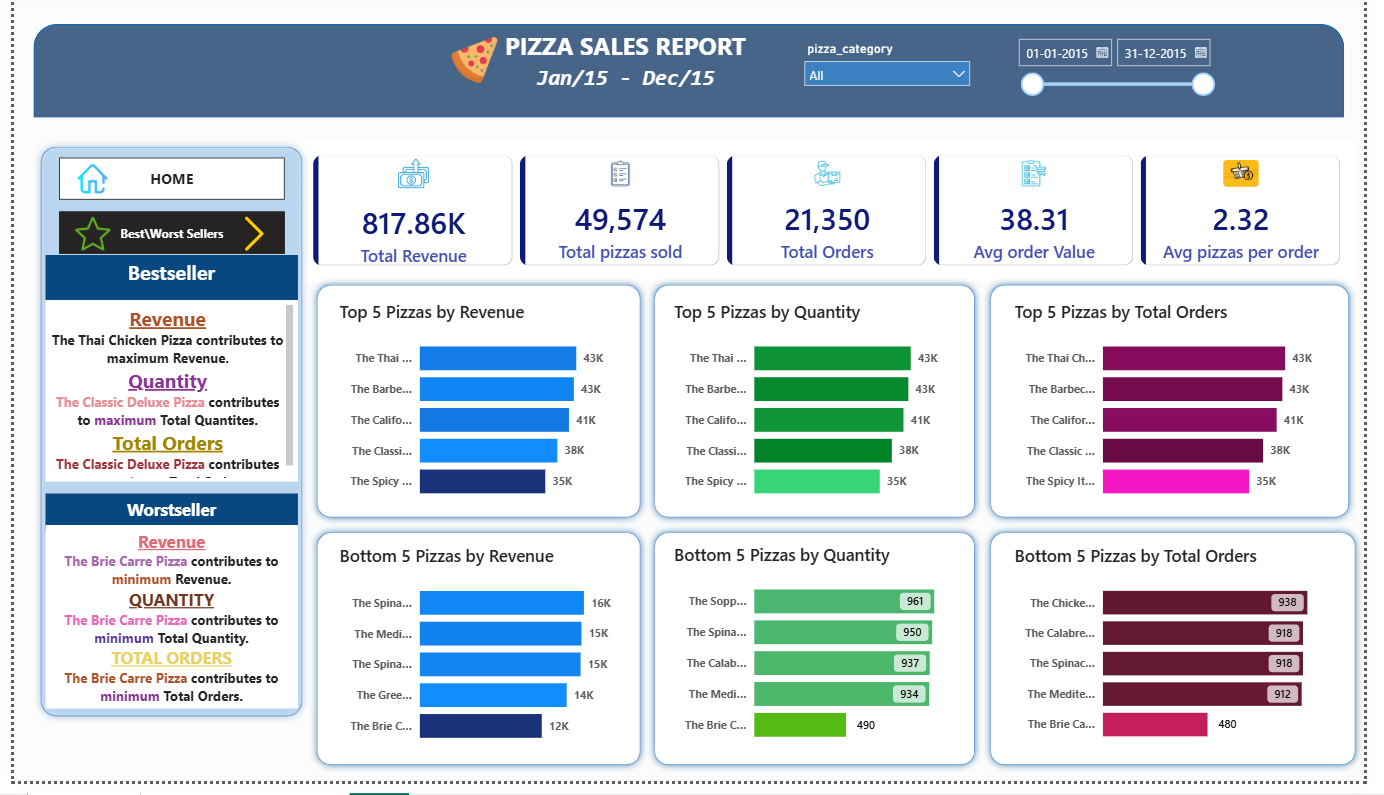

This screenshot's page, from the dashboard's own definition file:
{"tool":"powerbi","page":{"name":"Best\\Worst Sellers","canvas":[1500,875],"ordinal":1},"visuals":[{"type":"cardVisual","fields":{"Data":["pizza_sales.Total Revenue","pizza_sales.Total pizzas sold","pizza_sales.Total Orders","pizza_sales.Avg order Value","pizza_sales.Avg pizzas per order"]},"box":[315.9,161.5,1176.5,157.9],"z":0},{"type":"shape","box":[22.1,33.2,1457.2,104.1],"z":1000},{"type":"textbox","box":[527.1,59.8,268,57.6],"z":2000},{"type":"textbox","box":[527.1,33.2,305.6,64.2],"z":3000},{"type":"textbox","box":[493.9,73.1,372.1,48.7],"z":4000},{"type":"image","box":[478.4,46.5,66.4,53.2],"z":5000},{"type":"shape","box":[328.3,315.9,376.2,275],"z":6000},{"type":"shape","box":[21.3,161.5,307,649.5],"z":7000},{"type":"textbox","box":[35.5,291,280.4,49.7],"z":8000},{"type":"textbox","box":[35.5,340.7,280.4,202.3],"z":9000},{"type":"textbox","box":[35.5,555.4,280.4,40.8],"z":10000},{"type":"textbox","box":[35.5,590.9,280.4,204.1],"z":11000},{"type":"slicer","fields":{"Values":["pizza_sales.pizza_category"]},"box":[869.5,46.1,204.1,74.5],"z":12000},{"type":"slicer","fields":{"Values":["pizza_sales.order_date"]},"box":[1103.7,40.8,239.6,86.9],"z":13000},{"type":"shape","box":[704.5,315.9,372.6,275],"z":14000},{"type":"shape","box":[1077.1,315.9,415.2,275],"z":15000},{"type":"shape","box":[328.3,590.9,376.2,275],"z":16000},{"type":"shape","box":[704.5,590.9,372.6,275],"z":17000},{"type":"shape","box":[1077.1,590.9,422.3,275],"z":18000},{"type":"barChart","title":"Top 5 Pizzas by Revenue","fields":{"Category":["pizza_sales.pizza_name"],"Y":["pizza_sales.Total Revenue"]},"box":[356.7,340.7,323,234.2],"z":19000},{"type":"barChart","title":"Bottom 5 Pizzas by Revenue","fields":{"Category":["pizza_sales.pizza_name"],"Y":["pizza_sales.Total Revenue"]},"box":[356.7,612.2,323,234.2],"z":20000},{"type":"barChart","title":"Bottom 5 Pizzas by Quantity","fields":{"Category":["pizza_sales.pizza_name"],"Y":["pizza_sales.Total pizzas sold"]},"box":[728.6,611.2,323.3,234.7],"z":21000},{"type":"barChart","title":"Bottom 5 Pizzas by Total Orders","fields":{"Category":["pizza_sales.pizza_name"],"Y":["pizza_sales.Total Orders"]},"box":[1107.3,612.2,362,232.5],"z":22000},{"type":"barChart","title":"Top 5 Pizzas by Quantity","fields":{"Category":["pizza_sales.pizza_name"],"Y":["pizza_sales.Total Revenue"]},"box":[729.3,340.7,323,234.2],"z":23000},{"type":"barChart","title":"Top 5 Pizzas by Total Orders","fields":{"Category":["pizza_sales.pizza_name"],"Y":["pizza_sales.Total Revenue"]},"box":[1107.3,340.7,362,234.2],"z":24000},{"type":"pageNavigator","box":[49.7,241.3,252,47.9],"z":25000},{"type":"pageNavigator","box":[49.7,181,252,47.9],"z":26000},{"type":"image","box":[49.7,188.1,74.5,33.7],"z":27000},{"type":"image","box":[42.6,246.6,88.7,39],"z":28000},{"type":"image","box":[234.2,246.6,67.4,39],"z":29000}]}

Visuals, with their boxes in screenshot pixels (x1, y1, x2, y2), scaled from the page's 1500x875 canvas onto the 1384x795 screenshot:
cardVisual - pizza_sales.Total Revenue x pizza_sales.Total pizzas sold: left=291, top=147, right=1377, bottom=290
shape: left=20, top=30, right=1365, bottom=125
textbox: left=486, top=54, right=734, bottom=107
textbox: left=486, top=30, right=768, bottom=88
textbox: left=456, top=66, right=799, bottom=111
image: left=441, top=42, right=503, bottom=91
shape: left=303, top=287, right=650, bottom=537
shape: left=20, top=147, right=303, bottom=737
textbox: left=33, top=264, right=291, bottom=310
textbox: left=33, top=310, right=291, bottom=493
textbox: left=33, top=505, right=291, bottom=542
textbox: left=33, top=537, right=291, bottom=722
slicer - pizza_sales.pizza_category: left=802, top=42, right=991, bottom=110
slicer - pizza_sales.order_date: left=1018, top=37, right=1239, bottom=116
shape: left=650, top=287, right=994, bottom=537
shape: left=994, top=287, right=1377, bottom=537
shape: left=303, top=537, right=650, bottom=787
shape: left=650, top=537, right=994, bottom=787
shape: left=994, top=537, right=1383, bottom=787
"Top 5 Pizzas by Revenue" barChart: left=329, top=310, right=627, bottom=522
"Bottom 5 Pizzas by Revenue" barChart: left=329, top=556, right=627, bottom=769
"Bottom 5 Pizzas by Quantity" barChart: left=672, top=555, right=971, bottom=769
"Bottom 5 Pizzas by Total Orders" barChart: left=1022, top=556, right=1356, bottom=767
"Top 5 Pizzas by Quantity" barChart: left=673, top=310, right=971, bottom=522
"Top 5 Pizzas by Total Orders" barChart: left=1022, top=310, right=1356, bottom=522
pageNavigator: left=46, top=219, right=278, bottom=263
pageNavigator: left=46, top=164, right=278, bottom=208
image: left=46, top=171, right=115, bottom=202
image: left=39, top=224, right=121, bottom=259
image: left=216, top=224, right=278, bottom=259
